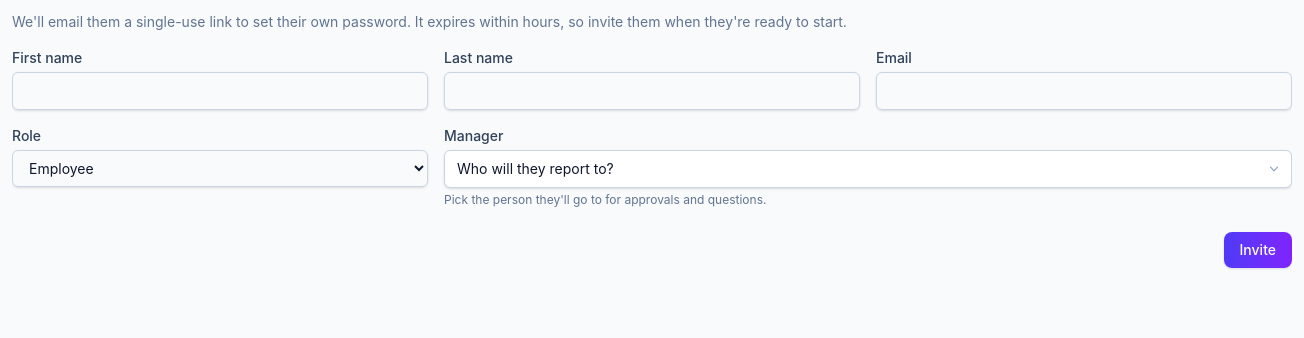
Test: InviteEmployeeForm › rejects an email the browser would accept but the server won't
Type "Viraj" into the field labelled "First name" at (220, 91), box [12,72,428,110]
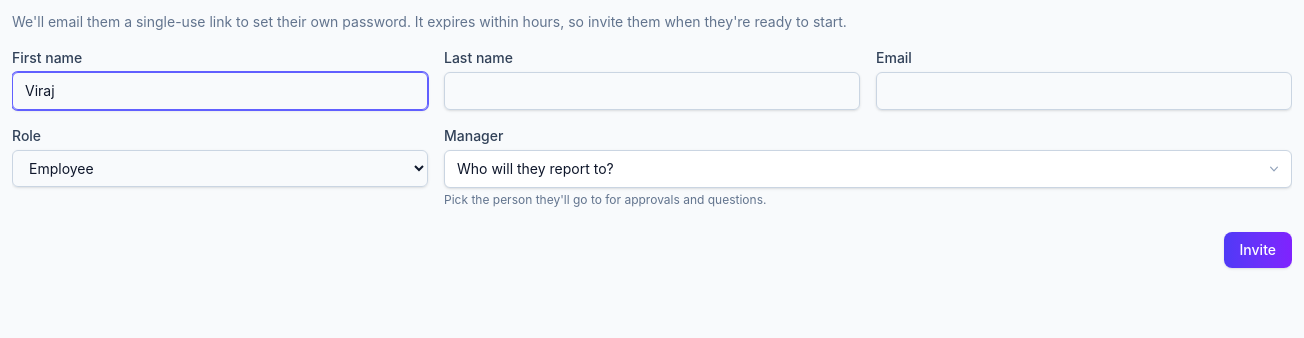
Type "Kumar" into the field labelled "Last name" at (652, 91), box [444,72,860,110]
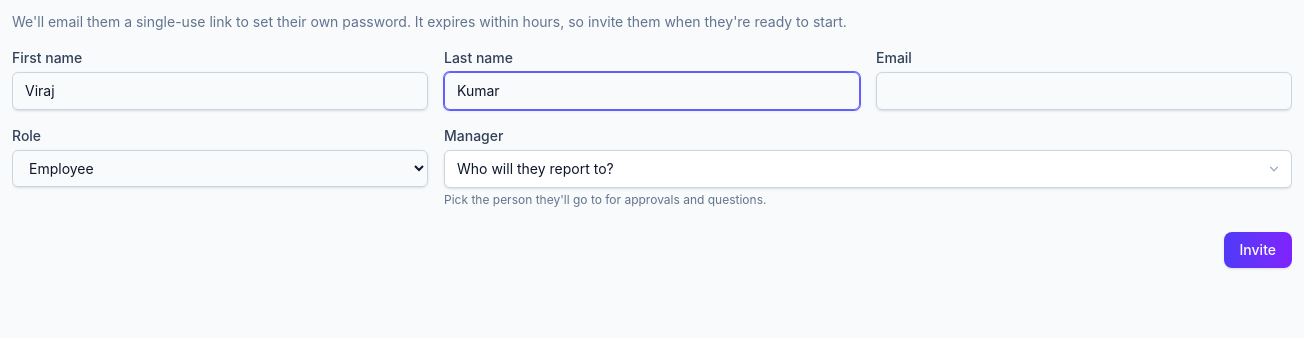
Type "viraj@123" into the field labelled "Email" at (1084, 91), box [876,72,1292,110]
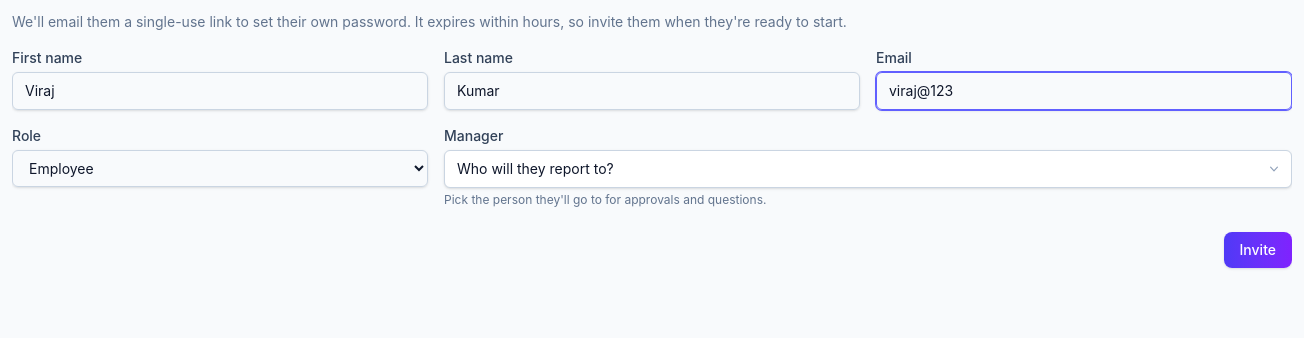
Select "HR Admin" in the dropdown labelled "Role" at (220, 168), box [12,150,428,187]
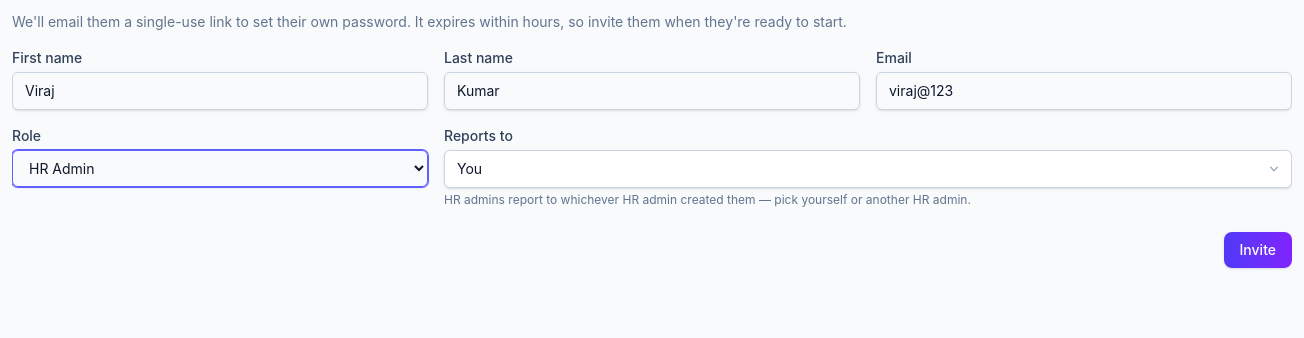
Click the button "Invite" at (1258, 250), box [1224,232,1292,268]
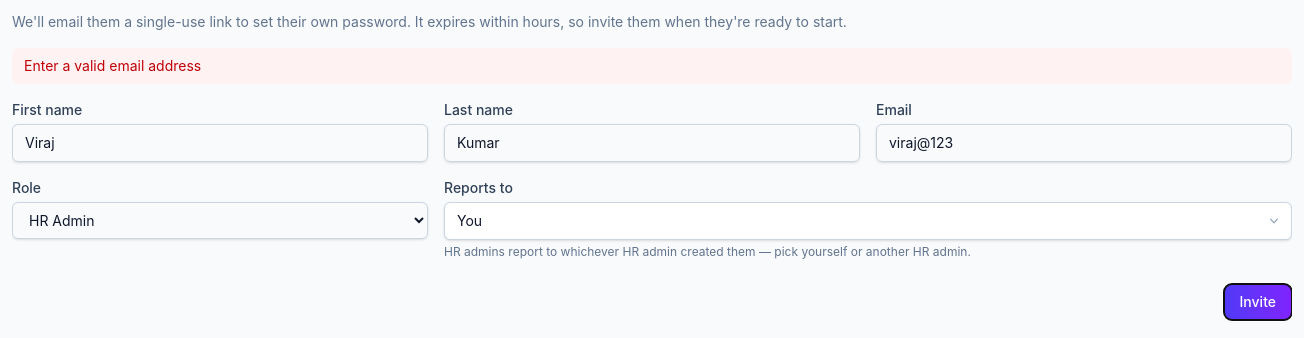
Result: the message reads "Enter a valid email address" at [24,57,201,74]
